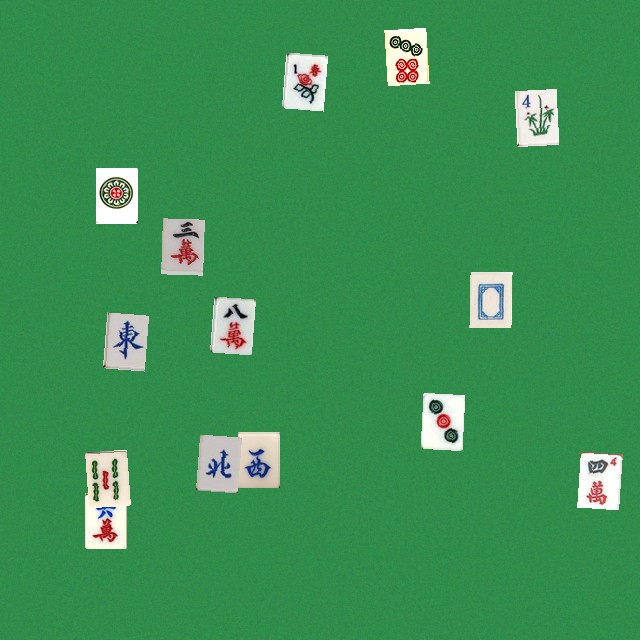tile: (102, 312, 144, 368), (420, 392, 462, 448), (237, 431, 279, 487), (514, 88, 556, 144), (161, 218, 203, 274), (384, 27, 426, 83), (95, 167, 137, 223), (209, 296, 251, 352), (281, 52, 323, 108), (84, 492, 126, 548), (469, 271, 511, 327), (195, 434, 237, 490), (85, 449, 127, 505), (577, 451, 619, 507)
